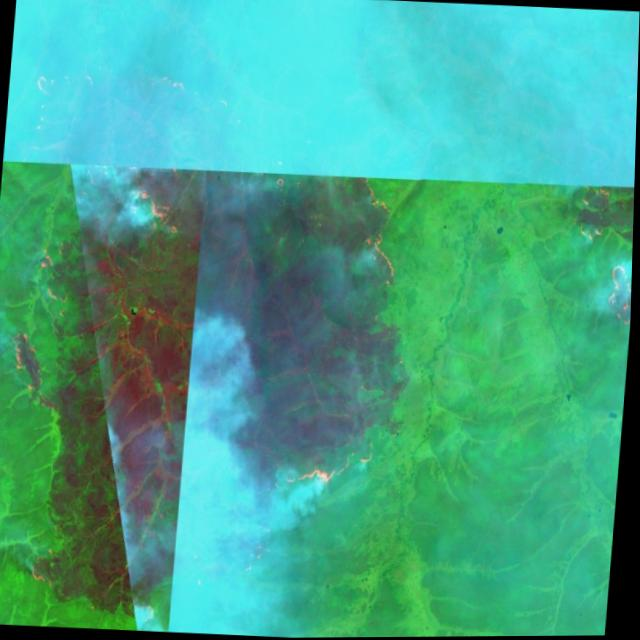fire: (267, 436, 381, 502), (358, 175, 407, 313), (565, 177, 630, 254), (121, 177, 195, 237), (606, 256, 634, 337)
